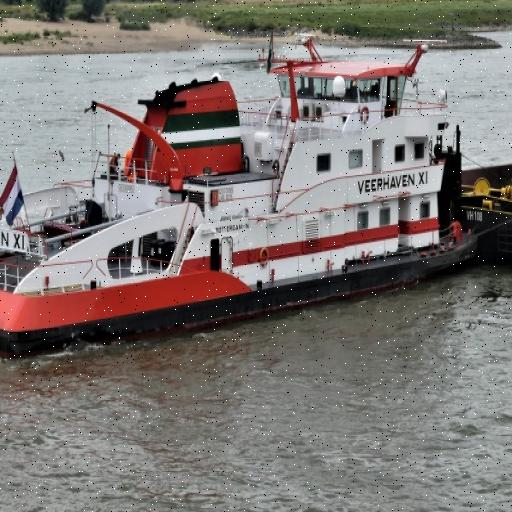tugboat: (1, 27, 493, 369)
